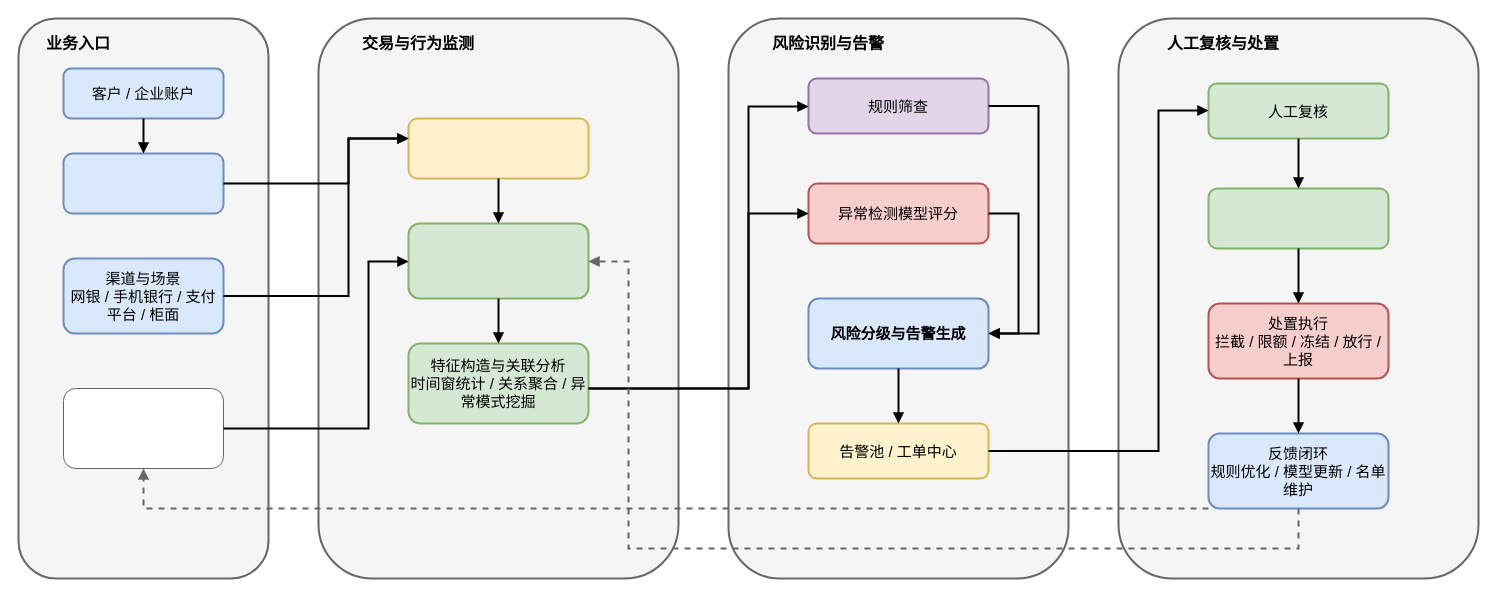
Image size: 1496x596. Some labels were removed from this diagram. Here are the shapes that lost their labels. From the top down, the centre of each, then its label:
At pixel 498 148: "交易流接入与标准化".
At pixel 143 183: "支付 / 转账 / 提现 / 登录".
At pixel 1298 218: "案例调查与证据核验".
At pixel 498 260: "账户行为画像 频次 / 金额 / 时段 / 地域 / 设备".
At pixel 143 428: "外部风险信息 黑白名单 / 地域 / 设备 / 关系网络".
